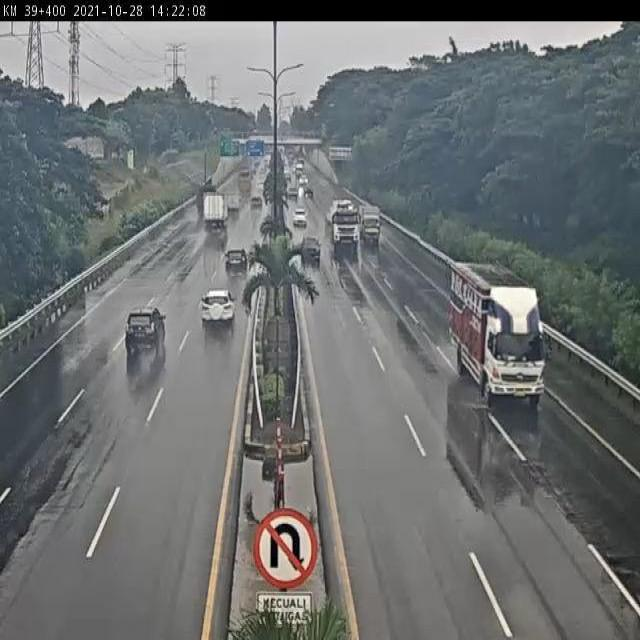car: (124, 304, 171, 356), (198, 287, 237, 333), (222, 244, 249, 276), (299, 233, 324, 266), (292, 205, 309, 228)
truck-l-: (447, 261, 543, 407), (201, 192, 230, 229)
truck-s-: (359, 201, 383, 251)
truck-xl-: (326, 196, 363, 253)
